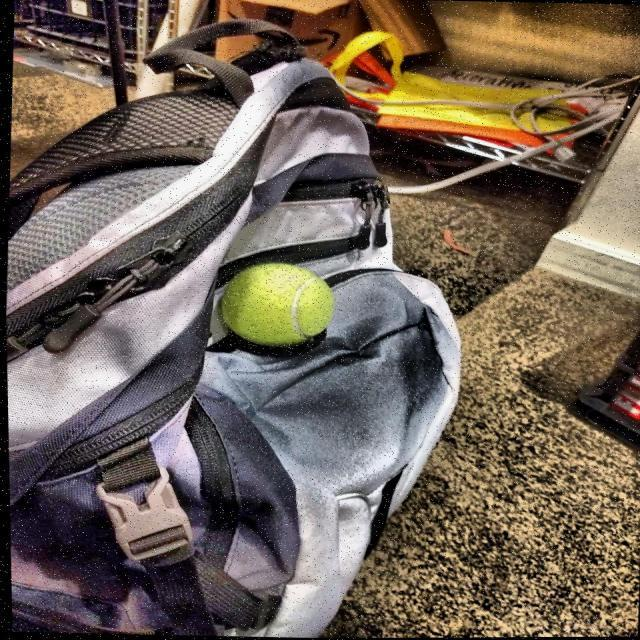tennis-ball: (220, 258, 345, 354)
